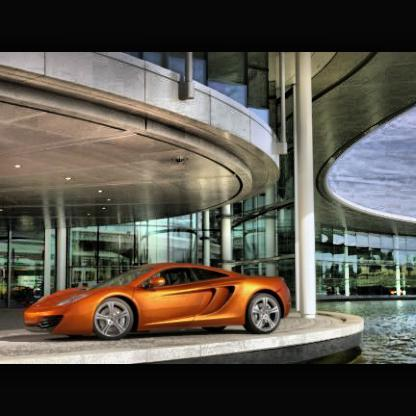McLaren MP4-12C Coupe 2012: (25, 264, 293, 343)
